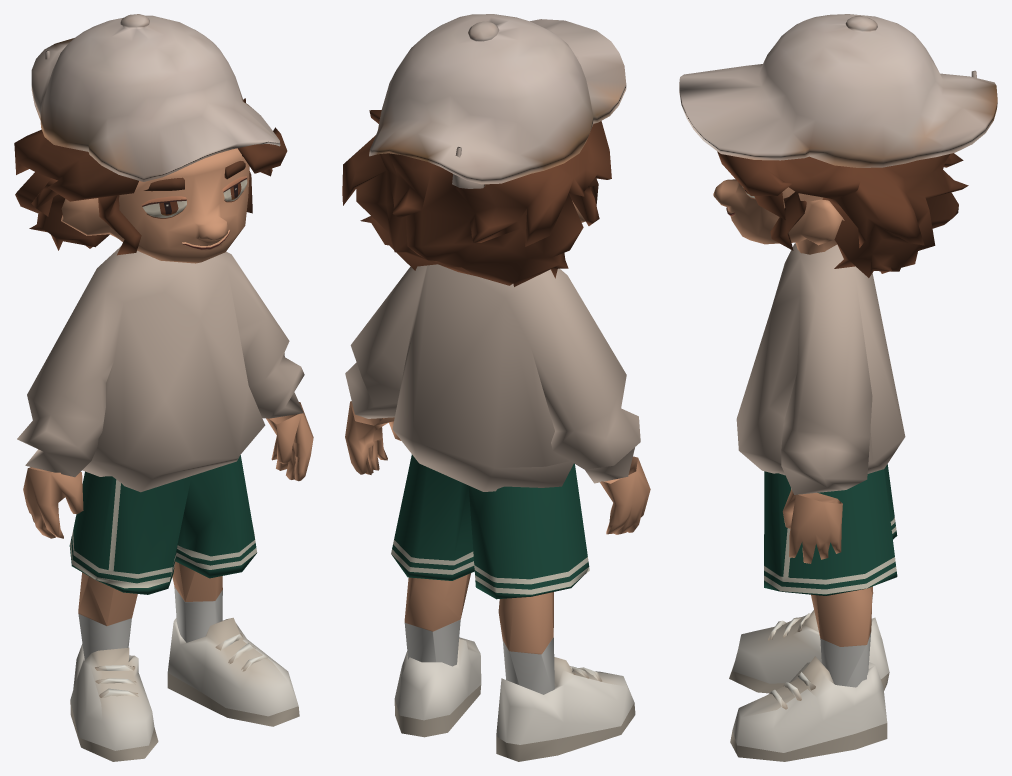
The model's file is host_q_tripo_p20_r2s1_capped.glb.
3 views of the same model, side by side, from view 1: azimuth 30°, elevation 25°; view 2: azimuth 150°, elevation 25°; view 3: azimuth 270°, elevation 25° (orthographic). The views are drawn at different scales.
Visible parts, largest first — view 1: HostBody, HostCap; view 2: HostBody, HostCap; view 3: HostBody, HostCap.
Part boxes in pixels (x1,y1,x2,y2): HostBody: [14, 98, 313, 761]; HostCap: [31, 14, 280, 181]; HostBody: [342, 110, 650, 761]; HostCap: [369, 14, 626, 188]; HostBody: [713, 151, 968, 761]; HostCap: [679, 14, 997, 167].
Bounding box in the file's own units: 0.5683 × 1.32 × 0.5536.
